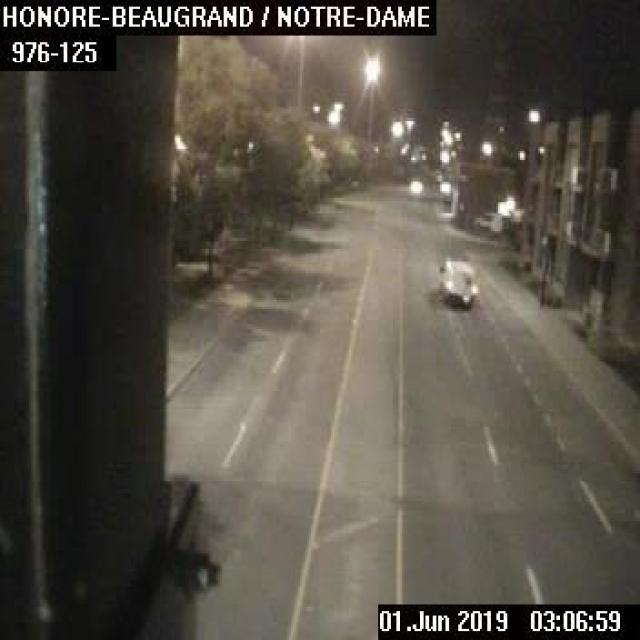vehicle: (436, 255, 478, 308)
